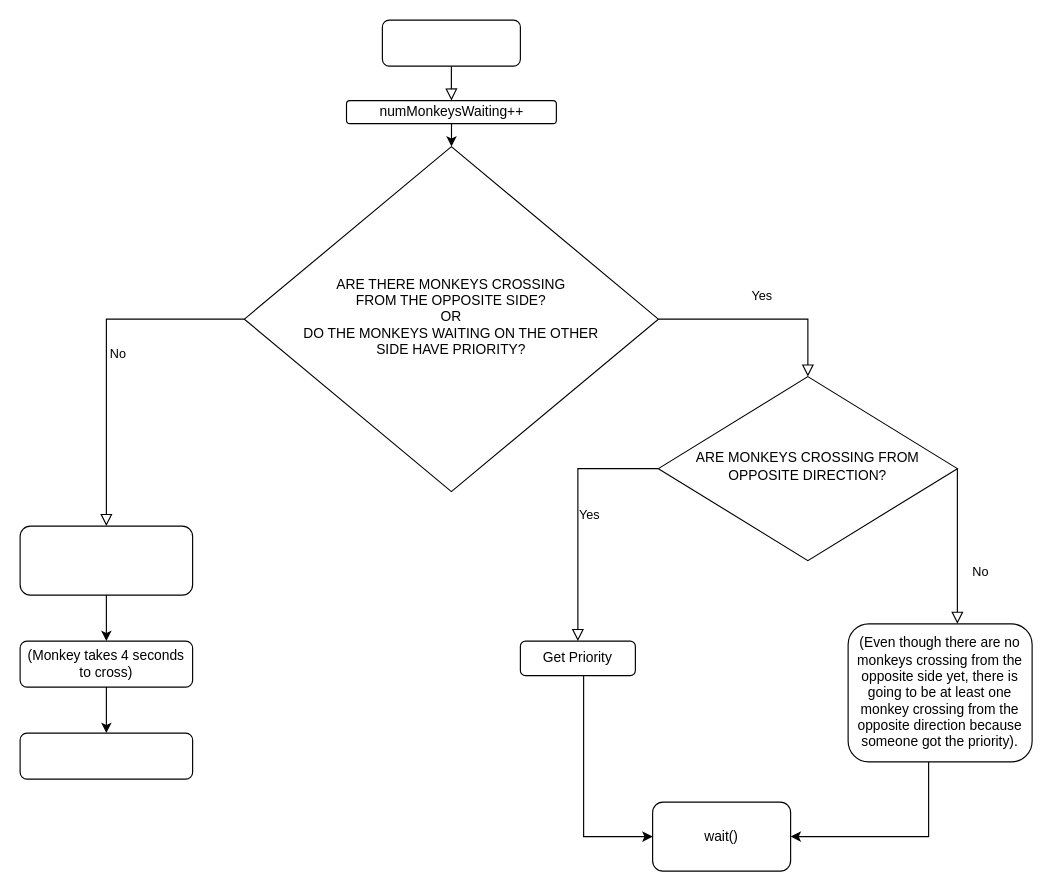
Some shapes in this 1052 by 891 pixel diagram are drawn without their labels. The shapes that lost their labels are listed below. From the top down, each one's centre as x and y in pixels, then its label:
At pixel 450 42: "Monkey Arrives".
At pixel 106 560: "numMonkeysWaiting--monkeysCrossing++ notifyAll()".
At pixel 106 755: "monkeysCrossing-- notifyAll()".
